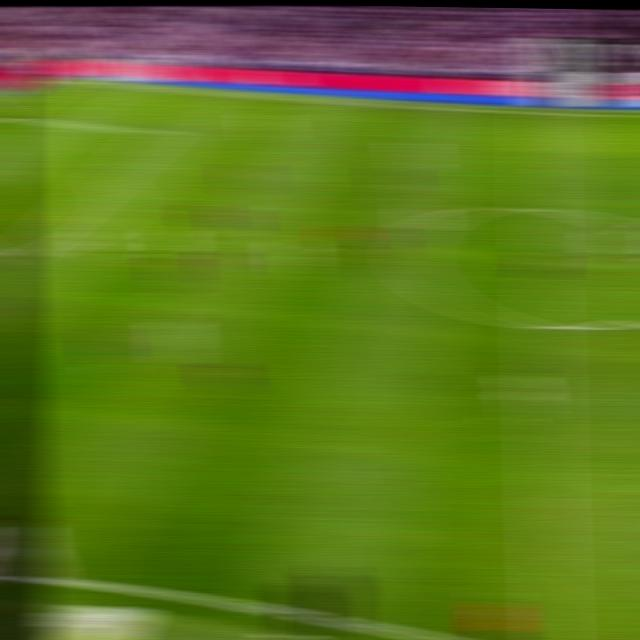bigarea_top_inner: (144, 124, 174, 139)
bottom_arc_area_intersection: (4, 243, 36, 263)
corner: (48, 73, 79, 83)
halfcircle_bottom: (524, 310, 559, 339)
halfcircle_top: (522, 196, 556, 220)
midline_top_intersection: (523, 105, 552, 119)
top_arc_area_intersection: (91, 171, 121, 187)
